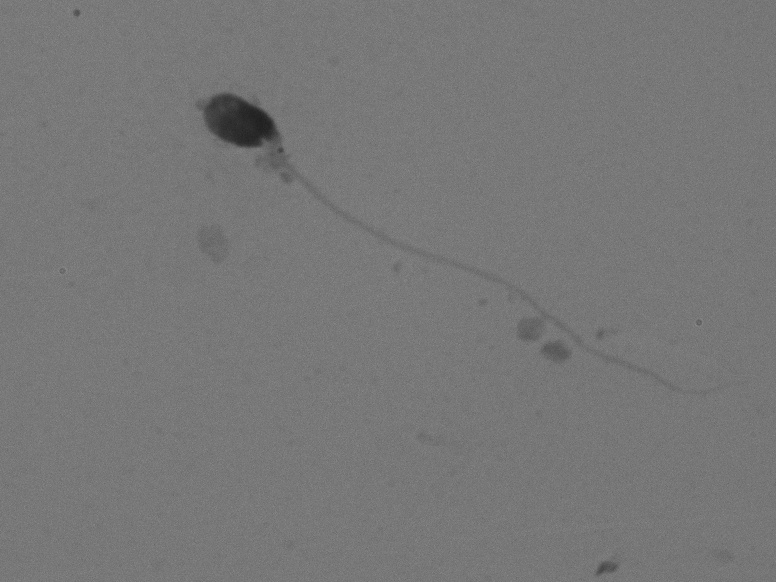Abnormal: (170, 87, 756, 424)
